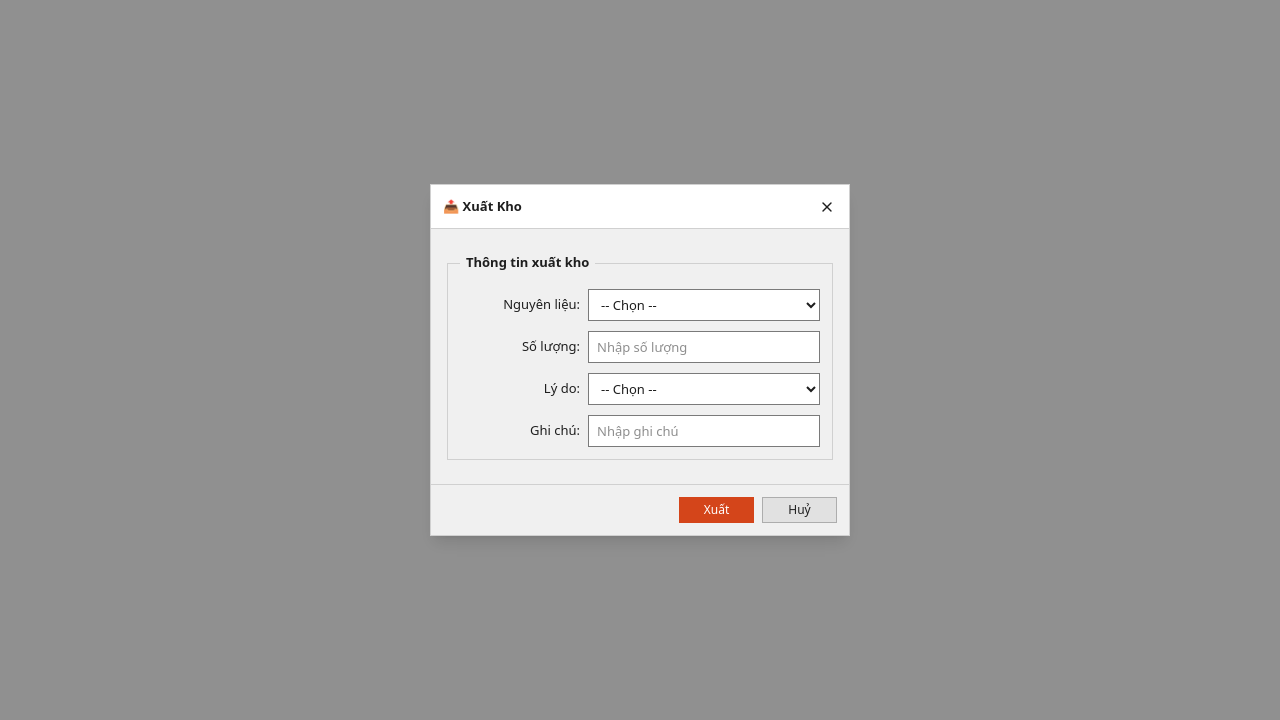
Test: StockExportForm › validates required fields on submit
Step 1. Click the button "Xuất" → (716, 510), box left=679, top=497, right=754, bottom=523
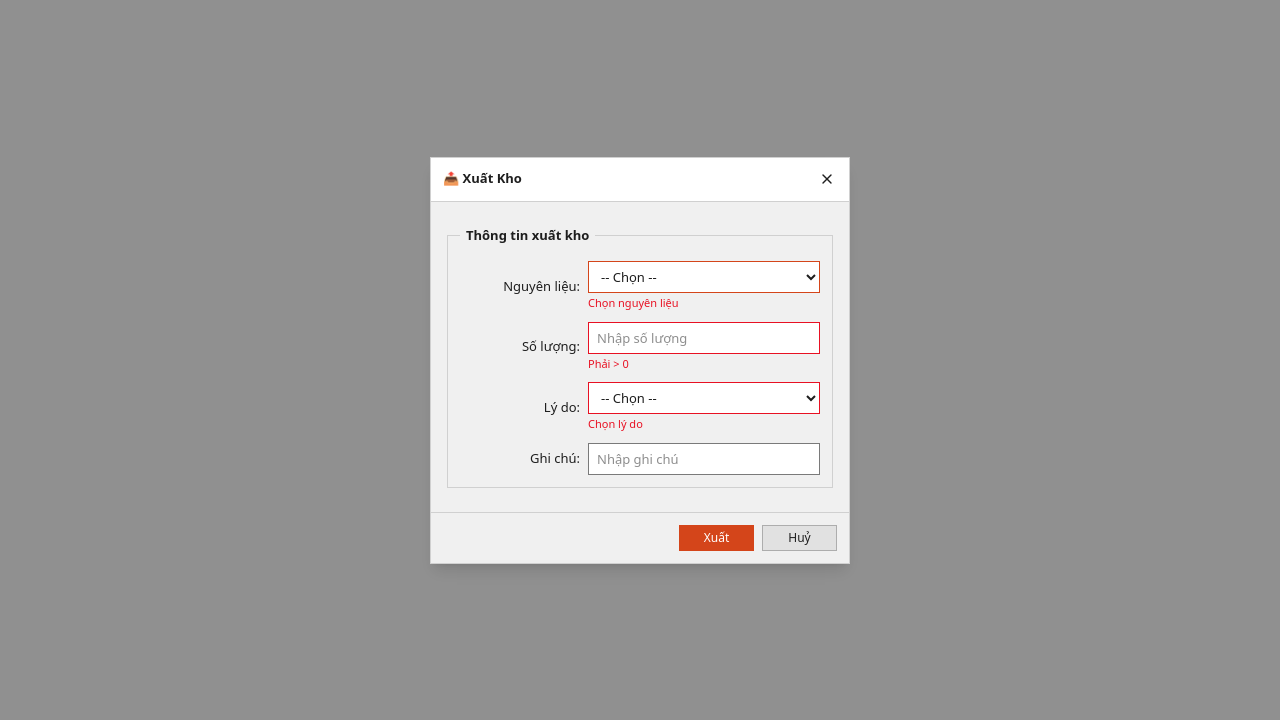
expect the text "Chọn nguyên liệu" is shown: met, box left=588, top=295, right=679, bottom=310
